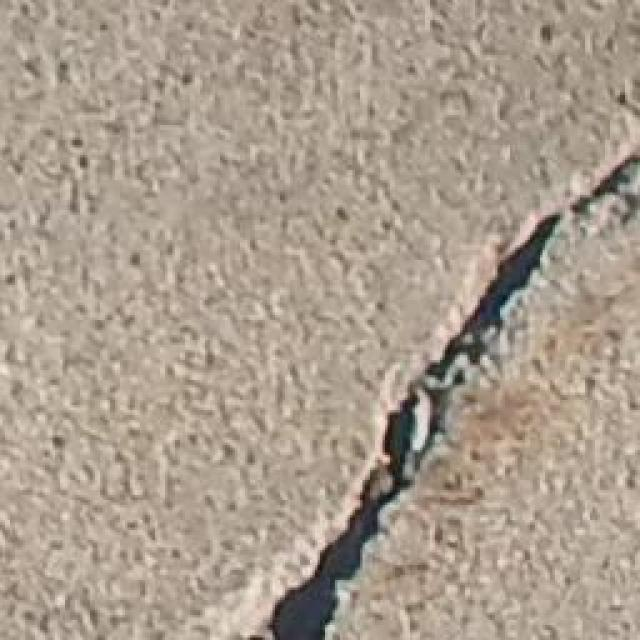concrete-crack: (255, 147, 640, 640)
